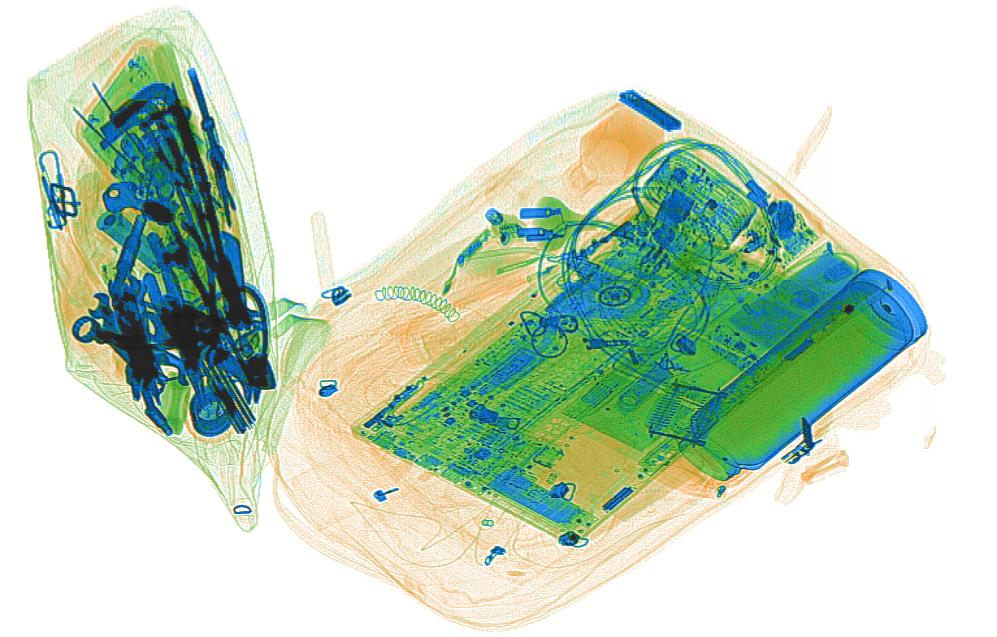battery: (96, 208, 172, 274)
